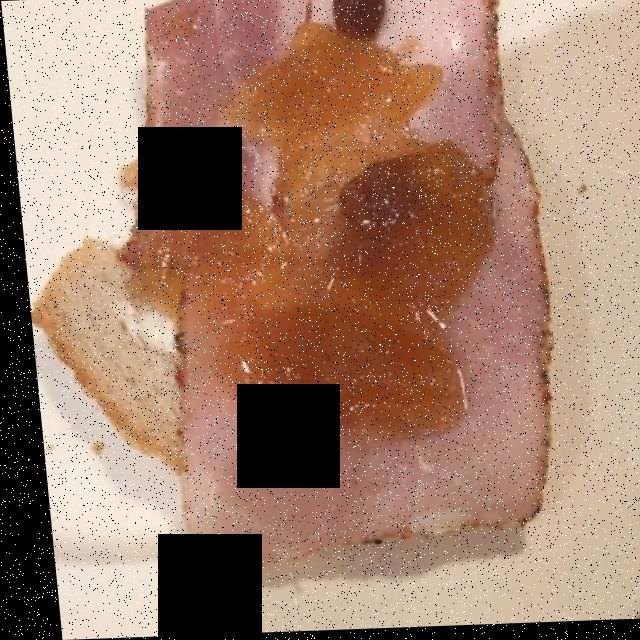bread: (29, 249, 174, 463)
ham-cooked: (145, 2, 546, 557)
